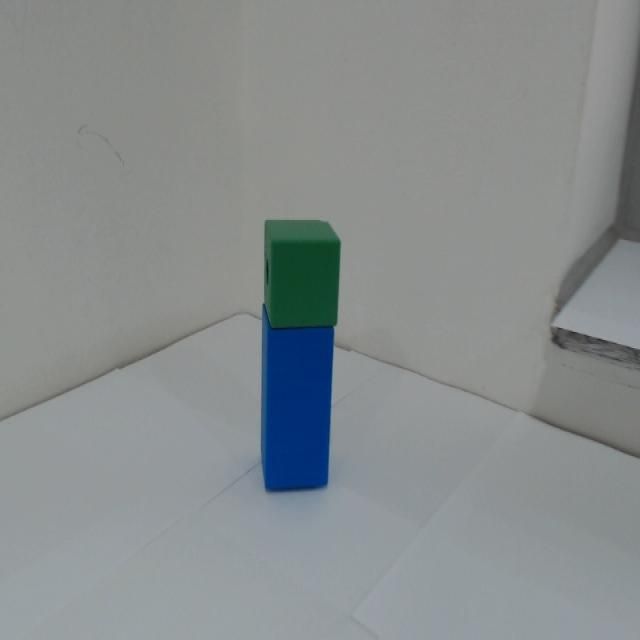cube: (254, 214, 346, 326)
